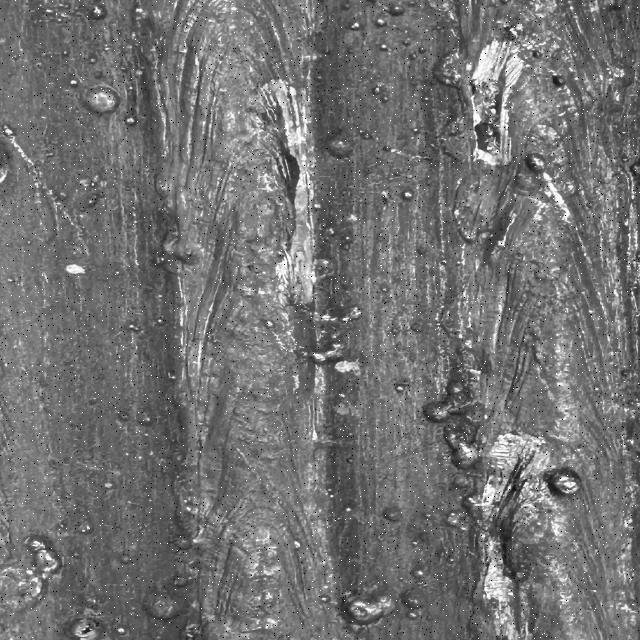Excess Reinforcement: (473, 526, 522, 640), (468, 455, 542, 529), (0, 538, 60, 614), (453, 162, 490, 245), (447, 340, 485, 402), (422, 382, 477, 422), (438, 285, 472, 346), (443, 415, 480, 470), (443, 416, 480, 470), (160, 230, 202, 274), (433, 50, 465, 88), (152, 156, 173, 211), (313, 308, 362, 328), (313, 259, 333, 280)
Spatters: (342, 596, 395, 625), (545, 468, 582, 498), (83, 86, 120, 114), (143, 594, 180, 619), (308, 345, 342, 365), (327, 136, 352, 159), (400, 590, 427, 609), (72, 621, 98, 640), (525, 152, 545, 174), (445, 512, 468, 530), (45, 6, 70, 22), (628, 158, 640, 191), (0, 120, 17, 140), (382, 505, 402, 521), (88, 6, 107, 19), (175, 536, 193, 549), (172, 575, 188, 588), (65, 264, 85, 274), (0, 164, 10, 183), (405, 609, 422, 620), (138, 412, 152, 425), (387, 6, 405, 16), (552, 74, 565, 86), (78, 524, 92, 534), (120, 554, 132, 564), (125, 116, 137, 125), (340, 0, 352, 9), (320, 595, 332, 604), (532, 49, 542, 59), (325, 228, 335, 238), (402, 191, 413, 200), (375, 18, 387, 26), (155, 318, 167, 326), (532, 49, 542, 58), (395, 384, 405, 393), (125, 82, 135, 91), (382, 191, 390, 202), (414, 570, 425, 578), (128, 325, 140, 332), (615, 90, 622, 102), (88, 55, 97, 64), (350, 22, 360, 30), (372, 85, 380, 95), (117, 628, 127, 636), (408, 52, 417, 60), (313, 202, 322, 210), (423, 512, 432, 519), (45, 151, 54, 158), (117, 628, 127, 634), (88, 180, 98, 186), (70, 79, 78, 86), (265, 321, 273, 328), (380, 44, 388, 51), (105, 482, 113, 489), (412, 540, 420, 546), (345, 458, 353, 464), (382, 96, 390, 102), (135, 70, 143, 76), (358, 129, 367, 134), (345, 236, 352, 242), (294, 541, 300, 548), (422, 96, 430, 101), (62, 50, 68, 56), (403, 39, 410, 44), (448, 558, 455, 563), (345, 508, 352, 512), (412, 128, 418, 132)
